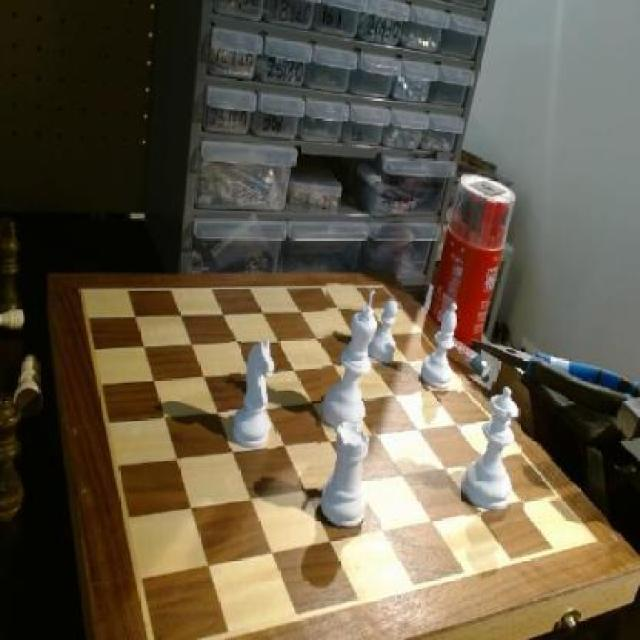black-rook: (416, 300, 462, 397)
white-bishop: (322, 284, 382, 436)
white-king: (229, 331, 280, 450)
white-knight: (368, 294, 400, 367)
white-pawn: (458, 382, 522, 516)
white-queen: (318, 416, 380, 536)
